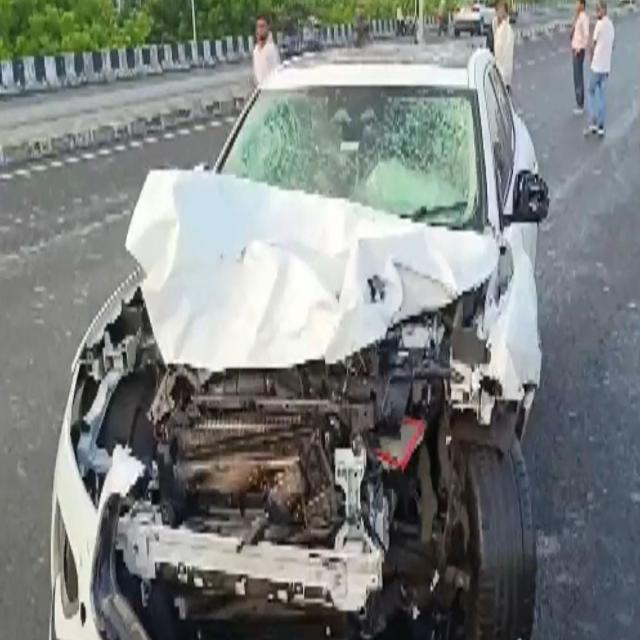accident: (50, 49, 549, 638)
